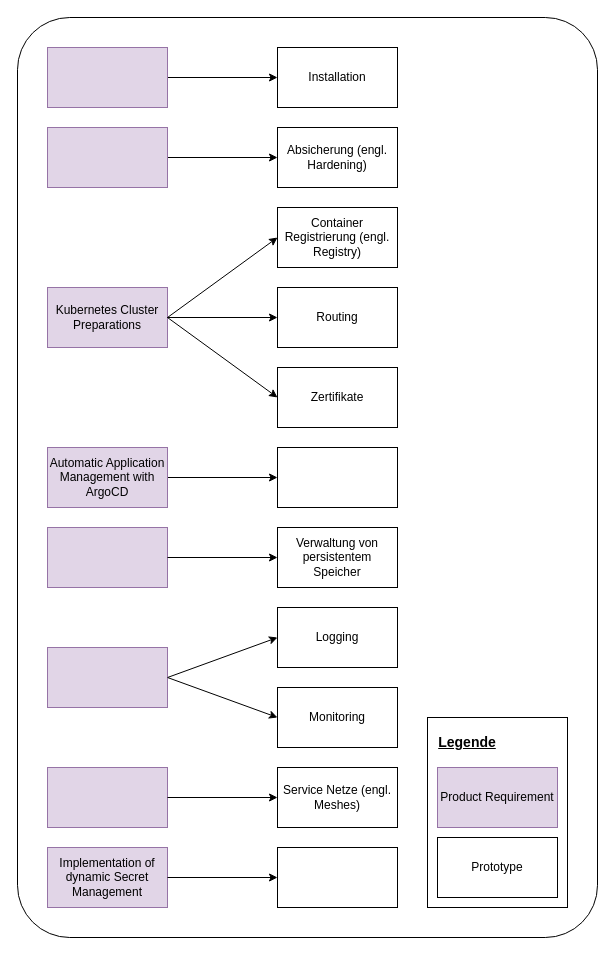
Image size: 615x955. Some labels were removed from this diagram. Here are the shapes that lost their labels. From the top down, the centre of each, then its label:
At (x=107, y=77): "Install Kubernetes Cluster with Ansible".
At (x=107, y=157): "Kubernetes Cluster Hardening".
At (x=337, y=477): "Automatische Anwendungsver-waltung mit ArgoCD".
At (x=107, y=557): "Implementation and Automation of Storage".
At (x=107, y=677): "Implementation of Logging and Monitoring".
At (x=107, y=797): "Exploring the Viability and Implementation of Service Meshes as a PoC".
At (x=337, y=877): "Verwaltung von Kubernetes Secrets".
